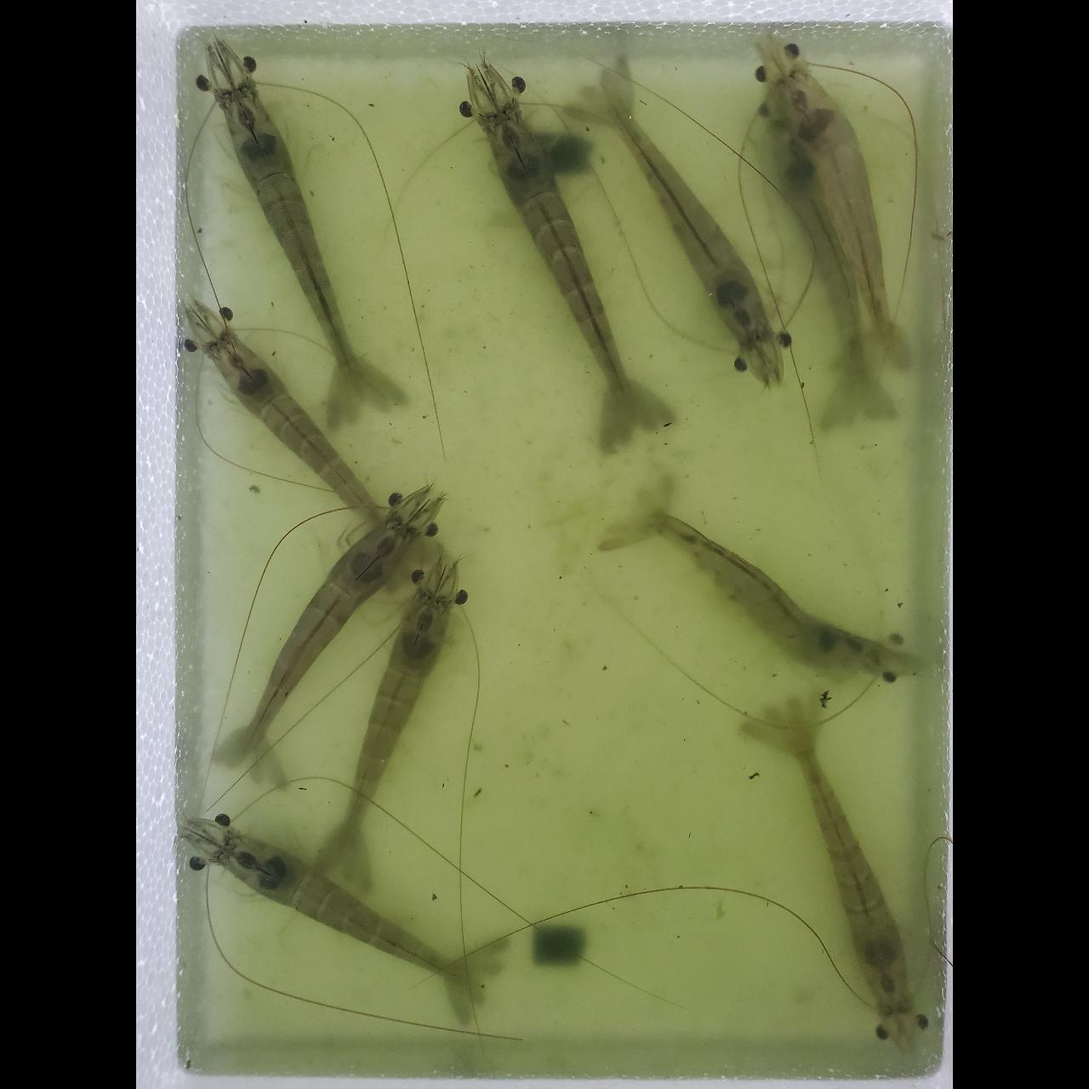box: (516, 131, 588, 183), (532, 925, 586, 969)
top_shrimp: (485, 106, 635, 433), (220, 86, 367, 418), (210, 330, 414, 566), (601, 87, 773, 350), (628, 510, 883, 684), (248, 521, 417, 765), (221, 832, 486, 983), (787, 707, 912, 1017), (774, 72, 892, 361), (340, 595, 450, 866), (768, 118, 863, 408)
